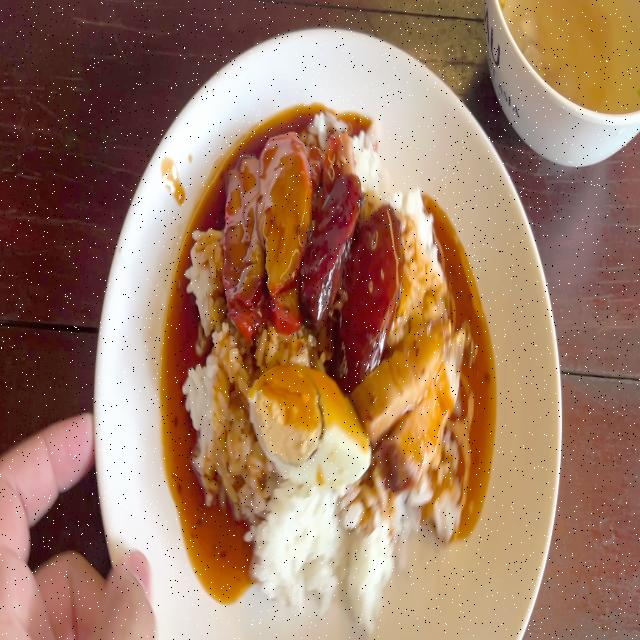boiled_egg: (248, 362, 372, 489)
chainese_sausage: (314, 175, 386, 362)
crispy_pork: (364, 319, 472, 477)
red_pork: (224, 138, 308, 322)
red_pork_and_crispy_pork: (186, 123, 467, 614)
rice: (247, 475, 397, 612), (186, 334, 247, 476), (188, 221, 225, 342)
